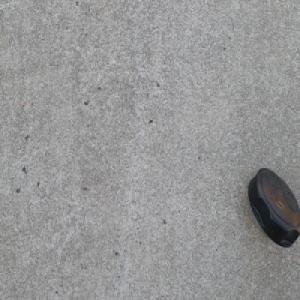FuelCap: (247, 166, 300, 248)
